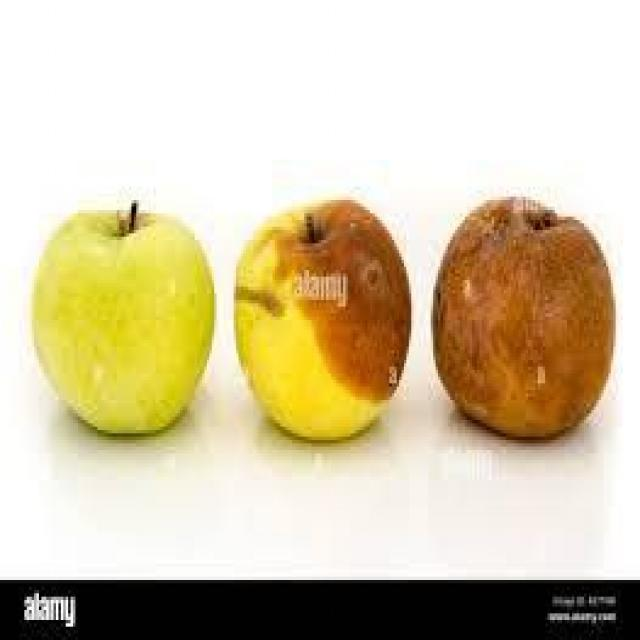fresh_apple: (29, 203, 217, 437)
rotten_apple: (431, 195, 618, 445), (232, 202, 412, 442)
